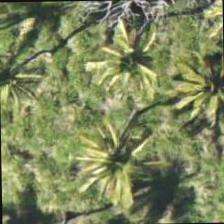Kelapa_Sawit: (68, 125, 160, 217), (71, 14, 163, 106)
